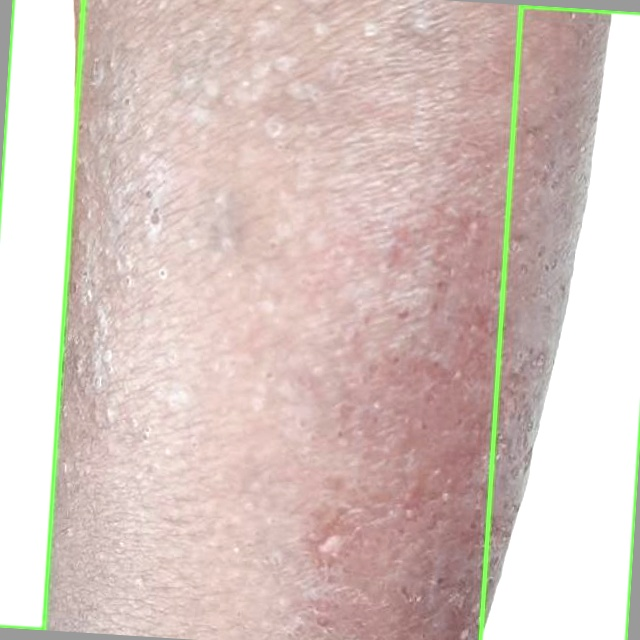Atopic Dermatitis: (480, 5, 639, 639), (0, 0, 83, 629)
